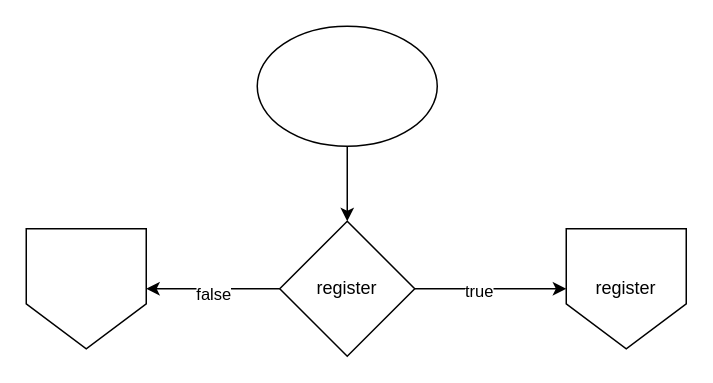
Some shapes in this 713 by 383 pixel diagram are drawn without their labels. The shapes that lost their labels are listed below. From the top down, each one's box as (x1, y1, x2, y2) in pixels, then its label:
(256, 25, 437, 146): start
(25, 227, 146, 349): login
